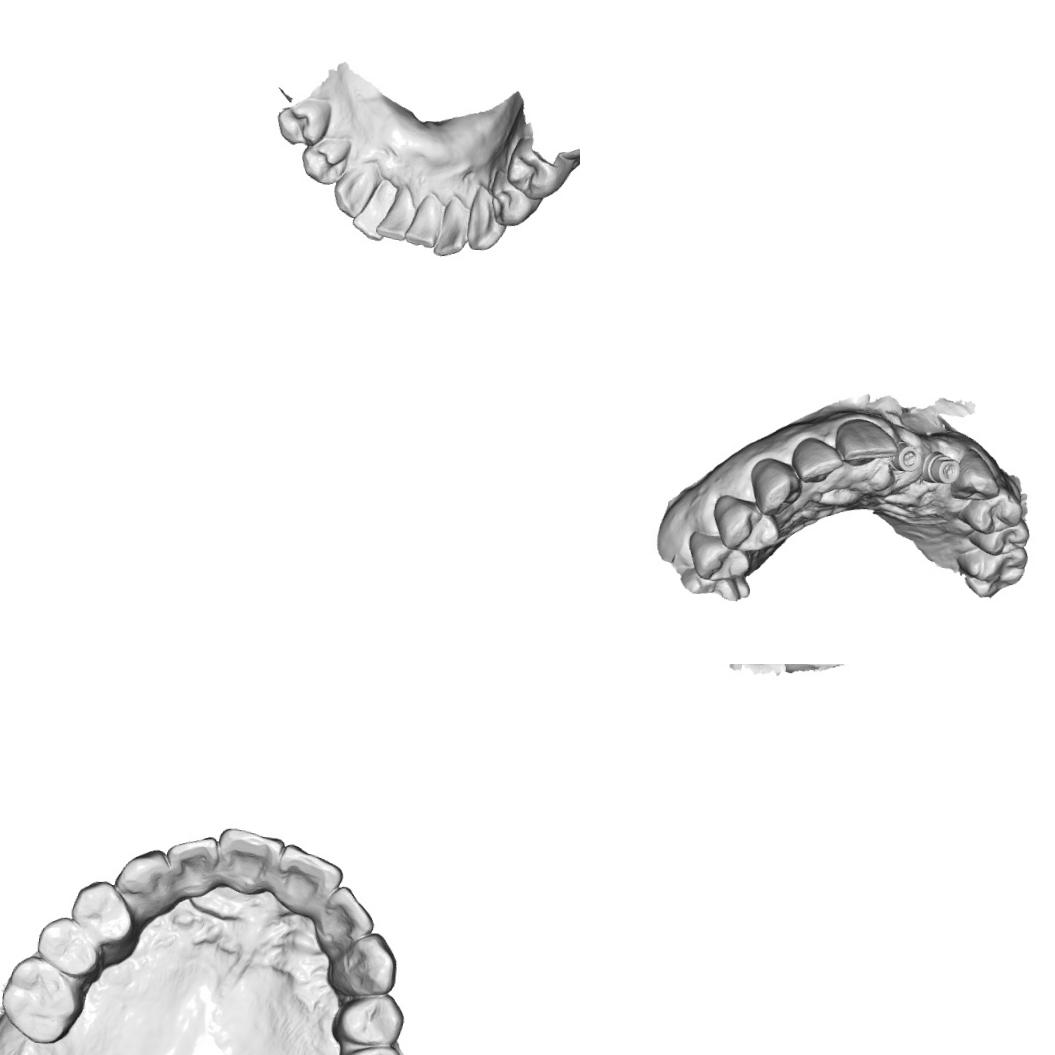canine: (322, 926, 402, 1002), (110, 842, 172, 918), (742, 454, 806, 520), (328, 154, 386, 222), (947, 443, 1004, 504), (463, 182, 510, 252)
implant: (918, 445, 964, 487), (886, 436, 925, 477)
incisor: (269, 841, 346, 918), (212, 824, 284, 897), (830, 414, 902, 471), (314, 882, 376, 948), (162, 830, 220, 898), (348, 173, 400, 244), (788, 432, 846, 486), (429, 192, 472, 258), (373, 183, 419, 243), (402, 188, 443, 250)
molar: (0, 950, 84, 1049), (952, 538, 1030, 602)
premolar: (67, 876, 138, 950), (503, 132, 574, 202), (708, 492, 784, 556), (32, 913, 102, 982), (330, 989, 408, 1048), (679, 528, 756, 587), (953, 480, 1027, 538), (485, 164, 546, 229), (272, 93, 335, 149), (964, 509, 1032, 560), (297, 133, 354, 188), (333, 1039, 408, 1055)
